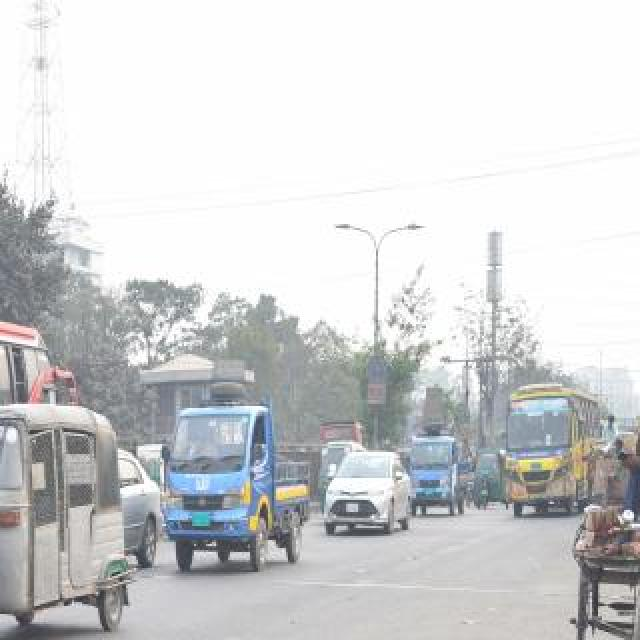bus: (0, 282, 80, 542), (501, 384, 613, 542)
car: (311, 444, 413, 542)
van: (152, 388, 314, 576), (405, 409, 485, 521)
